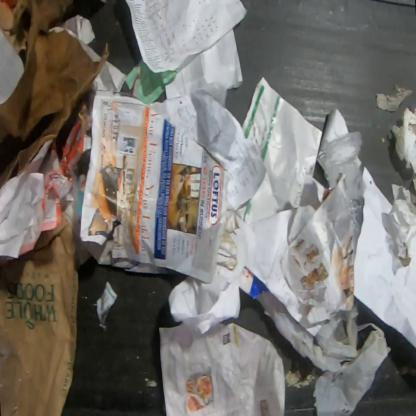cardboard: (0, 28, 26, 106)
soft_plastic: (255, 289, 393, 415)
